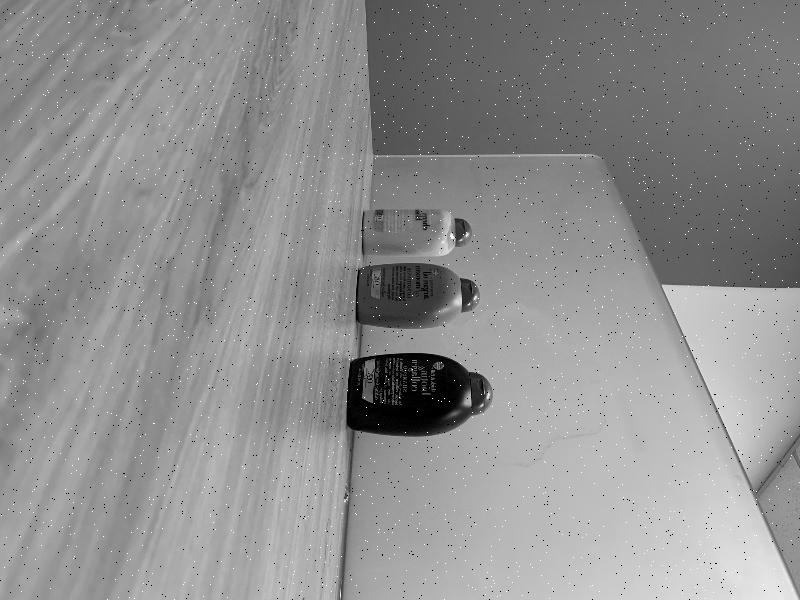ArganOilOfMorocco_Conditioner: (357, 263, 480, 329)
BiotinCollagen_Shampoo: (347, 353, 493, 437)
CherryBlossom_Conditioner: (361, 209, 472, 257)
